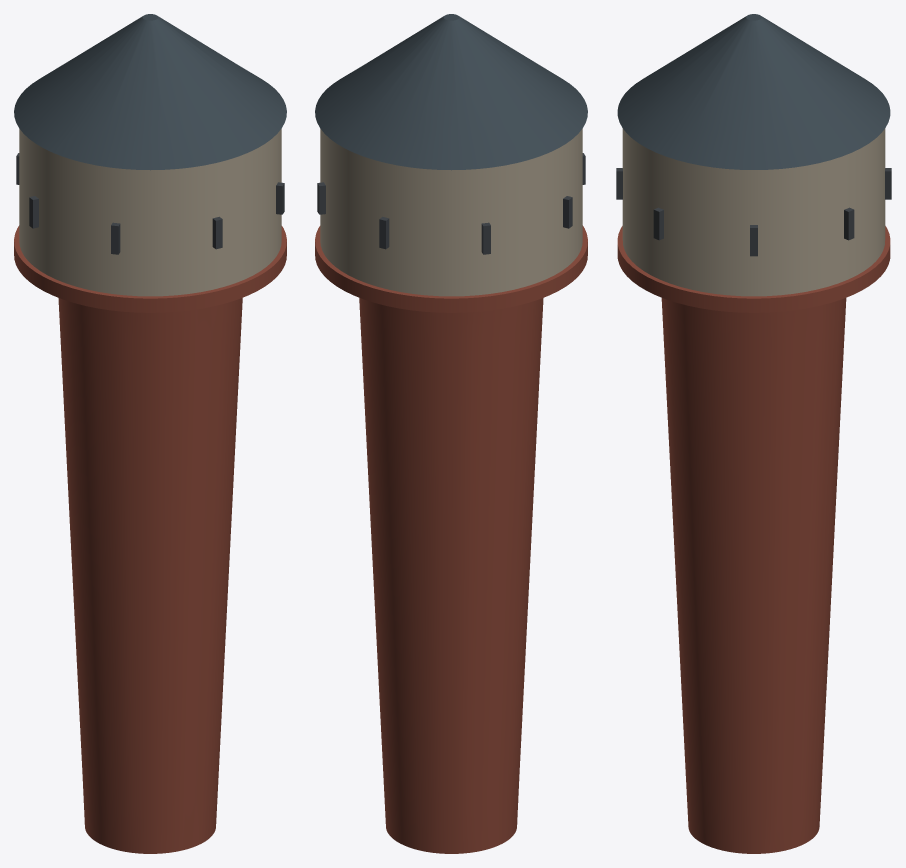
Rendered from g11-water-tower-masonry.glb.
The picture shows the model from 3 angles, left to right: view 1: azimuth 30°, elevation 25°; view 2: azimuth 150°, elevation 25°; view 3: azimuth 270°, elevation 25°; orthographic projection.
Visible parts, largest first — view 1: part0, part1, part3, part2; view 2: part0, part1, part3, part2; view 3: part0, part1, part3, part2.
Boxes of the visible parts, <box> form: part0: <box>58,298,242,853</box>; part1: <box>19,129,281,296</box>; part3: <box>14,14,286,170</box>; part2: <box>14,225,286,312</box>; part0: <box>359,298,543,853</box>; part1: <box>320,129,582,296</box>; part3: <box>315,14,587,170</box>; part2: <box>315,225,587,312</box>; part0: <box>661,298,846,853</box>; part1: <box>622,128,885,296</box>; part3: <box>617,14,890,169</box>; part2: <box>617,226,890,312</box>.
Size of the model in its own units: 10500 by 34000 by 10500.
